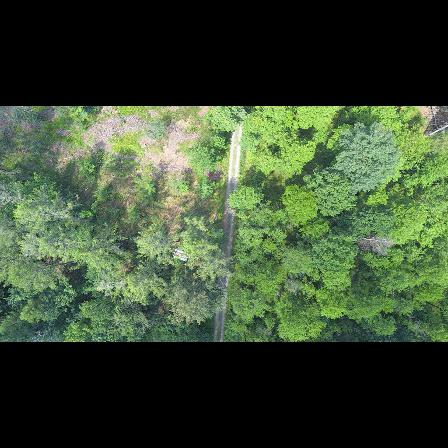Dead: (351, 231, 398, 257)
